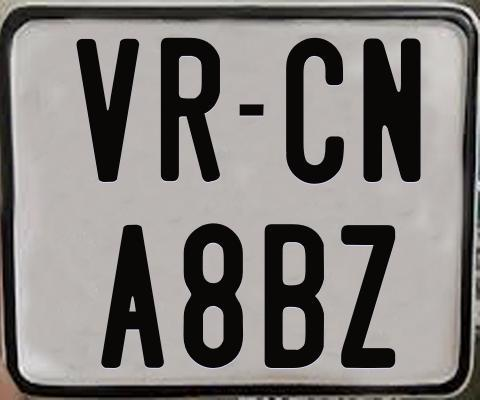8: (182, 221, 246, 368)
A: (100, 224, 163, 373)
B: (261, 222, 325, 366)
C: (286, 36, 345, 183)
N: (361, 35, 421, 181)
R: (158, 36, 219, 180)
V: (74, 39, 143, 183)
Z: (340, 222, 394, 369)
